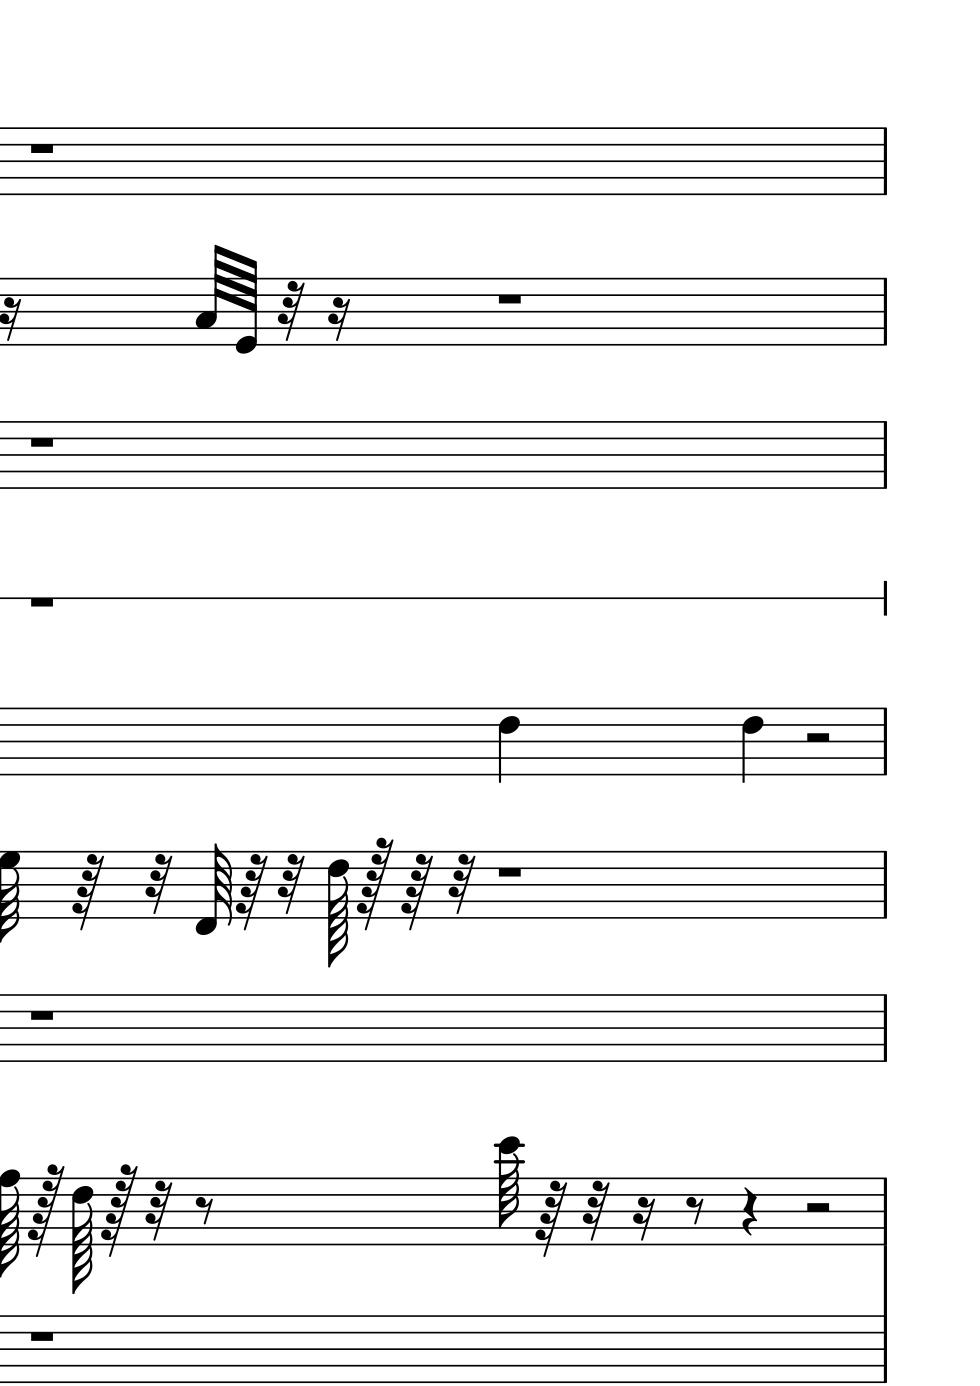128_6: (68, 1177, 95, 1293), (323, 849, 350, 968)
4_6: (496, 706, 521, 785), (739, 706, 764, 785)
64_-1: (193, 843, 232, 938)
64_0: (233, 255, 259, 356)
64_12: (495, 1136, 523, 1247)
64_3: (194, 244, 224, 348)
Rests1: (25, 593, 59, 613), (25, 1327, 58, 1346), (493, 863, 525, 881), (25, 1007, 57, 1025), (494, 290, 525, 308), (27, 140, 58, 157), (27, 434, 57, 451)
Rests128: (358, 835, 395, 931), (101, 1162, 137, 1258), (27, 1161, 63, 1257)
Rests16: (325, 295, 351, 343), (630, 1195, 657, 1243), (1, 295, 21, 343)
Rests2: (802, 729, 834, 749), (801, 1199, 833, 1220)
Rests32: (276, 280, 307, 344), (447, 853, 475, 919), (144, 852, 173, 917), (144, 1179, 173, 1244), (581, 1180, 610, 1244), (277, 853, 304, 918)
Rests4: (740, 1185, 759, 1238)
Rests64: (533, 1179, 567, 1260), (71, 852, 104, 932), (399, 854, 432, 933), (237, 853, 267, 933)
Rests8: (682, 1194, 704, 1228), (193, 1195, 215, 1228)
Single_barline: (875, 850, 894, 919), (875, 278, 894, 346), (876, 128, 894, 195), (876, 708, 894, 775), (875, 1316, 893, 1382), (876, 421, 893, 488), (876, 995, 893, 1062), (876, 1178, 893, 1244)
